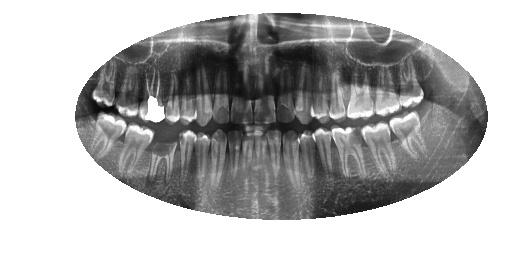i10healthy: (219, 125, 244, 200)
i11healthy: (202, 128, 230, 194)
i12healthy: (185, 127, 211, 200)
i13healthy: (172, 124, 196, 200)
i14decay: (142, 123, 180, 187)
i15healthy: (113, 116, 156, 188)
i16healthy: (85, 111, 131, 173)
i1healthy: (384, 106, 429, 165)
i2healthy: (359, 117, 396, 178)
i3decay: (327, 124, 369, 188)
i4healthy: (309, 125, 337, 192)
i5healthy: (295, 125, 319, 188)
i6healthy: (278, 124, 305, 198)
i7healthy: (264, 124, 284, 192)
i8healthy: (250, 124, 269, 191)
i9healthy: (237, 127, 256, 193)
u10healthy: (204, 52, 233, 128)
u11healthy: (189, 58, 216, 129)
u12healthy: (173, 66, 200, 129)
u13healthy: (162, 65, 183, 128)
u14healthy: (135, 63, 168, 129), (112, 63, 144, 122)
u15healthy: (86, 59, 121, 114)
u1healthy: (392, 47, 428, 115)
u2healthy: (370, 62, 401, 118)
u3healthy: (341, 60, 378, 123)
u4healthy: (322, 62, 351, 127)
u5healthy: (308, 63, 332, 127)
u6healthy: (289, 61, 318, 128)
u7healthy: (274, 59, 298, 129)
u8healthy: (251, 56, 280, 132)
u9healthy: (226, 54, 255, 130)
